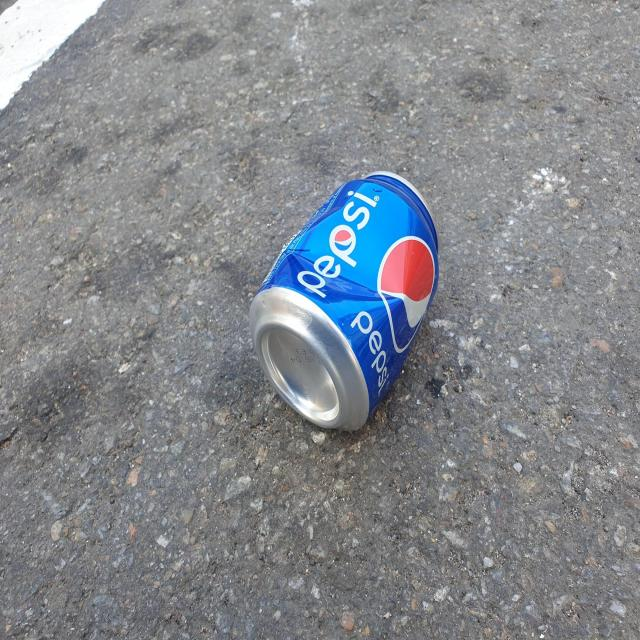can: (250, 171, 439, 431)
